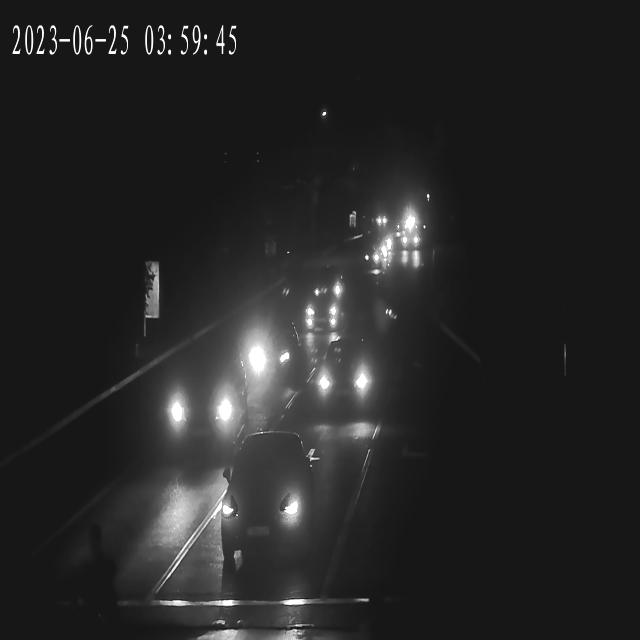Car: (214, 435, 319, 561), (157, 362, 249, 450), (226, 320, 298, 384), (312, 347, 379, 408), (306, 296, 342, 334), (303, 293, 339, 329), (356, 246, 387, 271), (397, 234, 420, 253), (399, 232, 423, 250), (372, 212, 389, 228)
